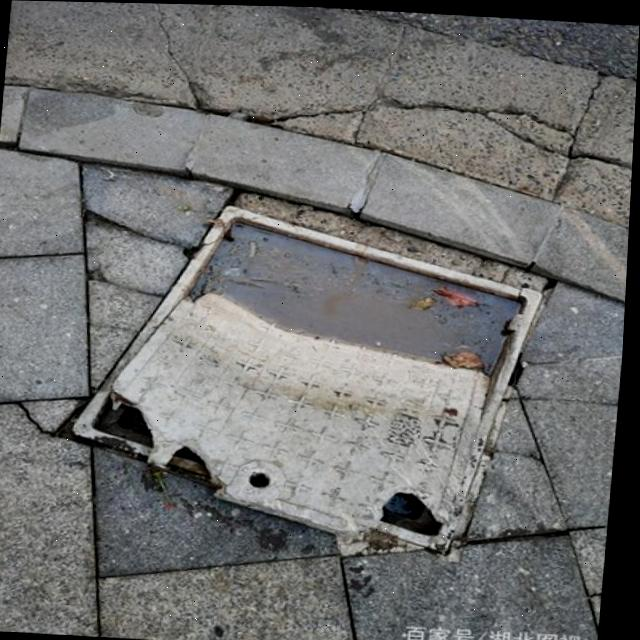manhole: (47, 187, 558, 556)
